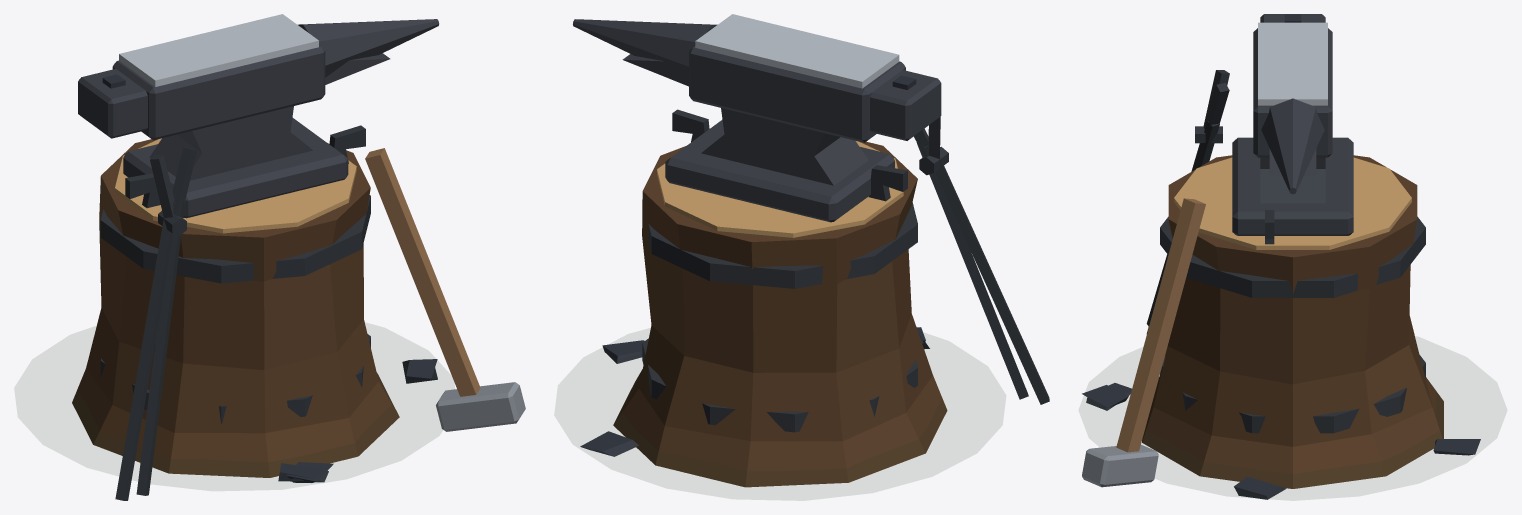
The model's file is anvil.glb.
3 views of the same model, side by side, from view 1: azimuth 30°, elevation 25°; view 2: azimuth 150°, elevation 25°; view 3: azimuth 270°, elevation 25° (orthographic). The views are drawn at different scales.
Parts seen in each view (by area): view 1: anvil; view 2: anvil; view 3: anvil.
Part boxes in pixels (x1,y1,x2,y2): anvil: (72,14,525,500); anvil: (573,14,1049,487); anvil: (1082,14,1480,499).
Bounding box in the file's own units: 0.94 × 0.84 × 0.92.
